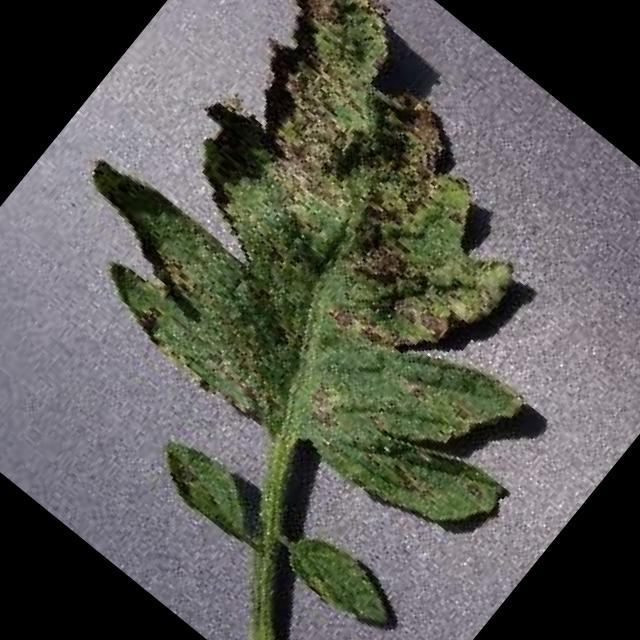Tomato Septoria spot leaf: (26, 0, 640, 581)
